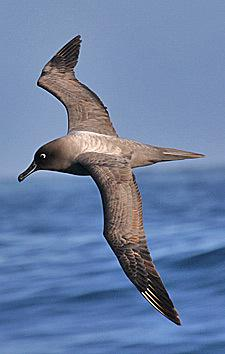003.Sooty_Albatross: (17, 34, 205, 329)
